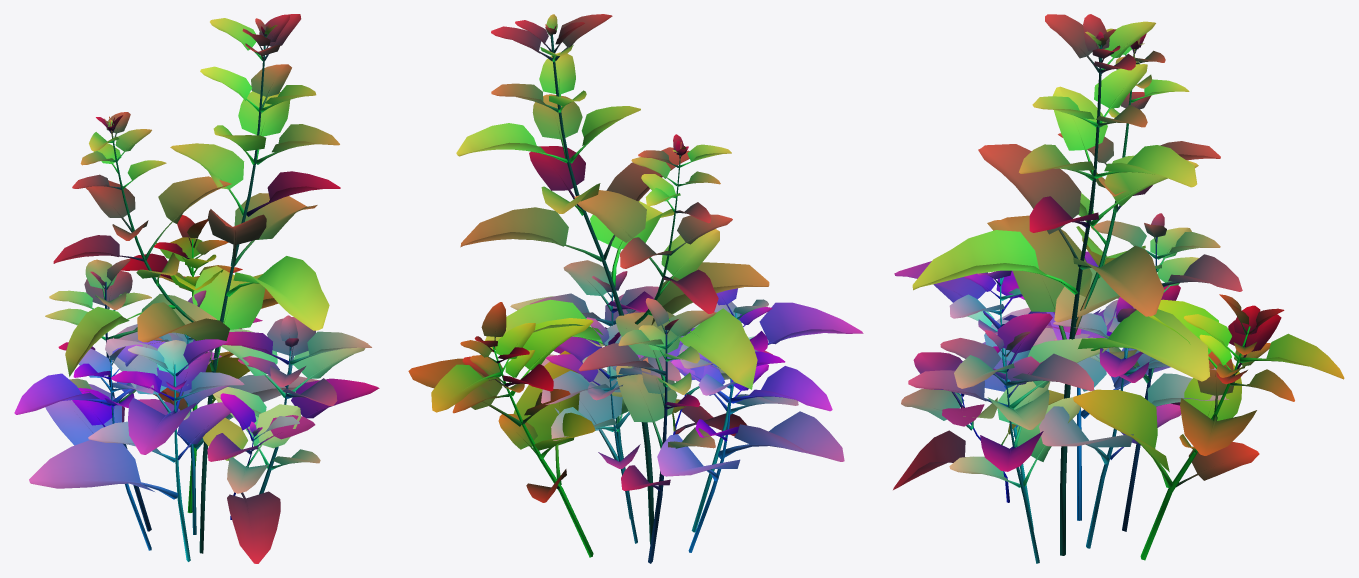
The model's file is Lemon_Balm_umslacdia_Mid_umslacdia_VarC_LOD1.fbx.
3 renders of one model, left to right at view 1: azimuth 30°, elevation 25°; view 2: azimuth 150°, elevation 25°; view 3: azimuth 270°, elevation 25°, orthographic. The views are drawn at different scales.
Parts seen in each view (by area): view 1: _r7d6_VarC_LOD3; view 2: _r7d6_VarC_LOD3; view 3: _r7d6_VarC_LOD3.
Boxes of the visible parts, x1,y1,x2,y2 form: _r7d6_VarC_LOD3: (14,14,379,563); _r7d6_VarC_LOD3: (408,14,863,563); _r7d6_VarC_LOD3: (893,14,1344,563).
Bounding box in the file's own units: 52.75 × 71.33 × 51.2.
